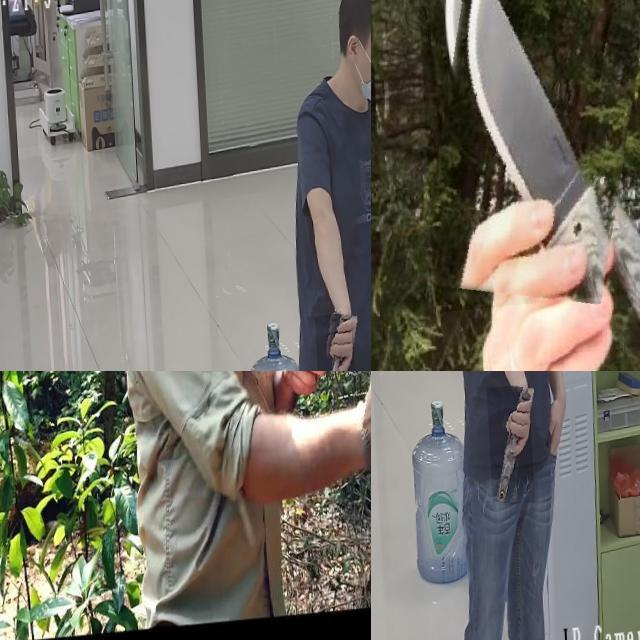-: (416, 0, 640, 315)
gun-knife-thesis - v11 Yolov5 augmented: (482, 394, 530, 515), (310, 322, 352, 371)
